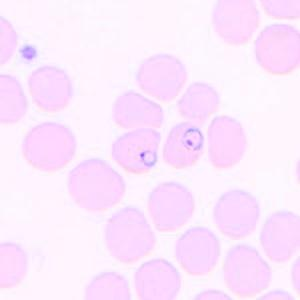Infected: (110, 128, 162, 175), (162, 123, 206, 170)
Uninfected: (68, 157, 124, 211), (104, 206, 154, 263), (21, 122, 75, 172), (136, 54, 187, 102), (147, 182, 193, 233), (174, 226, 220, 275), (223, 245, 268, 295), (255, 23, 299, 74), (214, 189, 258, 239), (206, 115, 246, 169), (28, 66, 74, 111), (112, 91, 163, 131), (212, 0, 258, 44), (260, 212, 298, 262), (176, 81, 219, 124), (134, 258, 179, 299), (0, 75, 27, 125), (85, 271, 130, 299)
